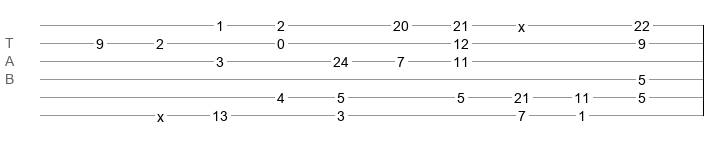0: (277, 36, 285, 46)
1: (216, 18, 224, 28), (578, 108, 586, 118)
11: (453, 54, 469, 64), (574, 90, 590, 100)
12: (453, 36, 469, 46)
13: (212, 108, 228, 118)
2: (156, 36, 164, 46), (277, 18, 285, 28)
20: (393, 18, 409, 28)
21: (453, 18, 469, 28), (514, 90, 530, 100)
22: (634, 18, 650, 28)
24: (333, 54, 349, 64)
3: (216, 54, 224, 64), (337, 108, 345, 118)
4: (277, 90, 285, 100)
5: (337, 90, 345, 100), (457, 90, 465, 100), (638, 90, 646, 100), (638, 72, 646, 82)
7: (397, 54, 405, 64), (518, 108, 526, 118)
9: (96, 36, 104, 46), (638, 36, 646, 46)
x: (157, 109, 164, 117), (518, 19, 525, 27)
